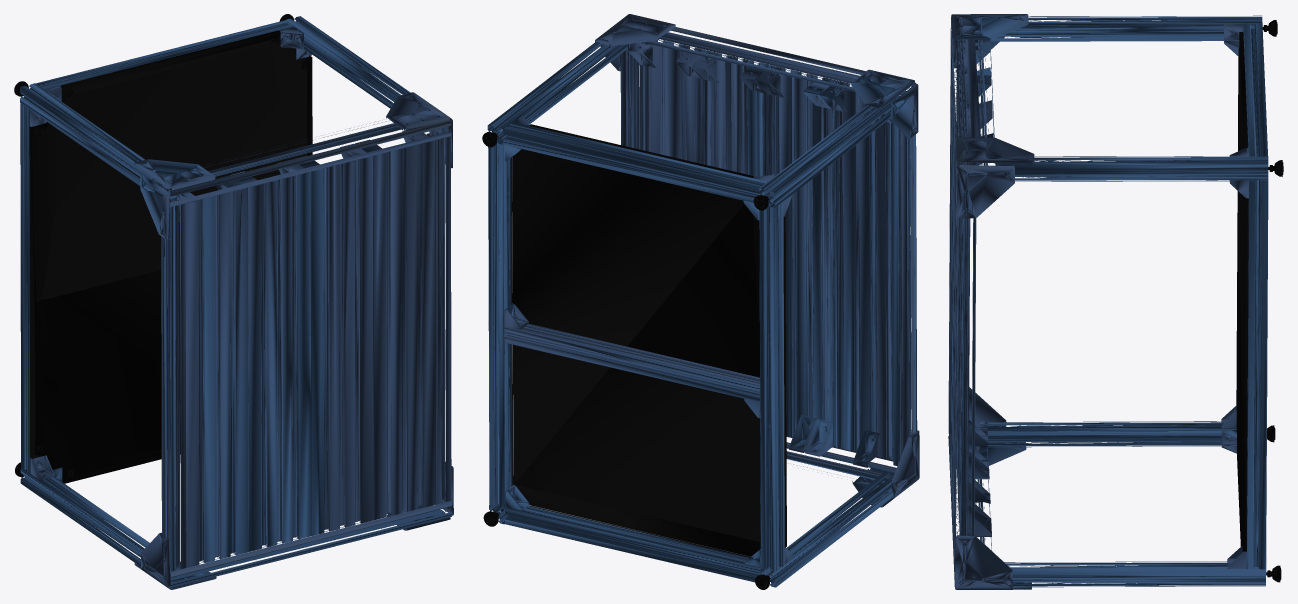
The model's file is vention_table.obj.
3 renders of one model, left to right at view 1: azimuth 30°, elevation 25°; view 2: azimuth 150°, elevation 25°; view 3: azimuth 270°, elevation 25°, orthographic. The views are drawn at different scales.
Size of the model in its own units: 830 by 1094 by 775.
